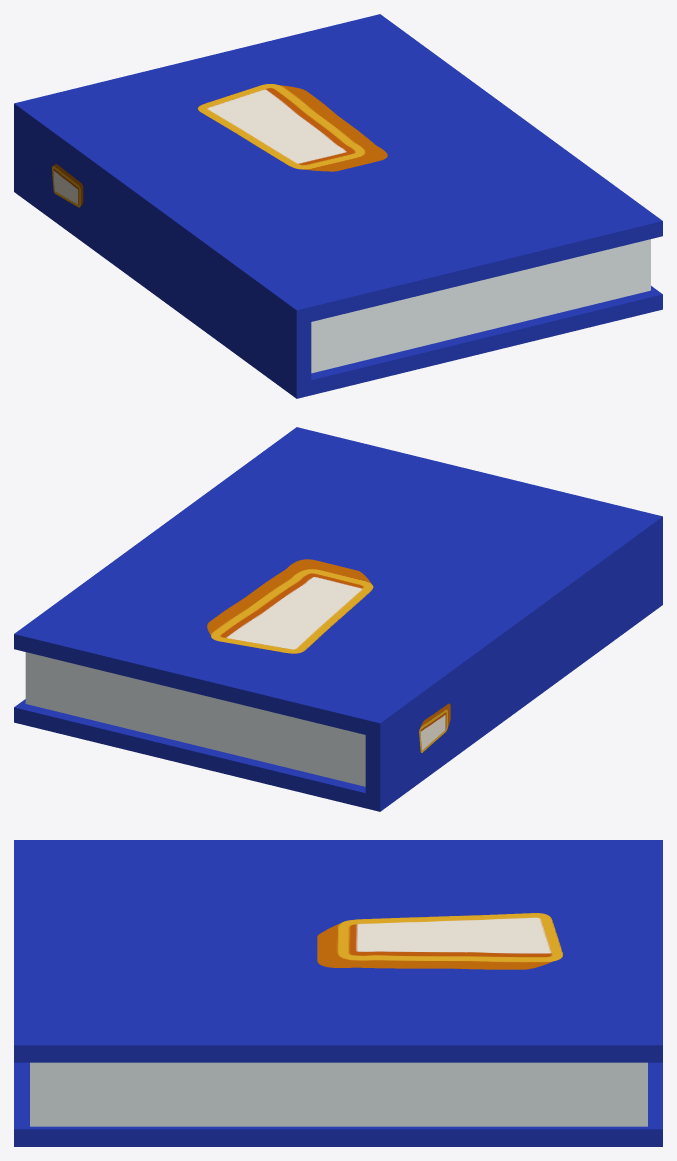
The model's file is Ibook.fbx.
3 views of the same model, one above another, from view 1: azimuth 30°, elevation 25°; view 2: azimuth 150°, elevation 25°; view 3: azimuth 270°, elevation 25° (orthographic). The views are drawn at different scales.
Visible parts, largest first — view 1: cover, paper, 2.001, 2.002; view 2: cover, paper, 2.001, 2.002; view 3: cover, paper, 2.001.
Part boxes in pixels (x1,y1,x2,y2): cover: (14, 14, 662, 398); paper: (311, 239, 650, 373); 2.001: (197, 84, 387, 171); 2.002: (52, 164, 83, 207); cover: (14, 427, 662, 811); paper: (25, 652, 365, 786); 2.001: (207, 559, 373, 653); 2.002: (419, 703, 450, 752); cover: (14, 840, 662, 1146); paper: (30, 1062, 647, 1126); 2.001: (317, 913, 562, 969).
Size of the model in its own units: 130 by 30.04 by 173.
Materials: 4 (2 with a texture image).
